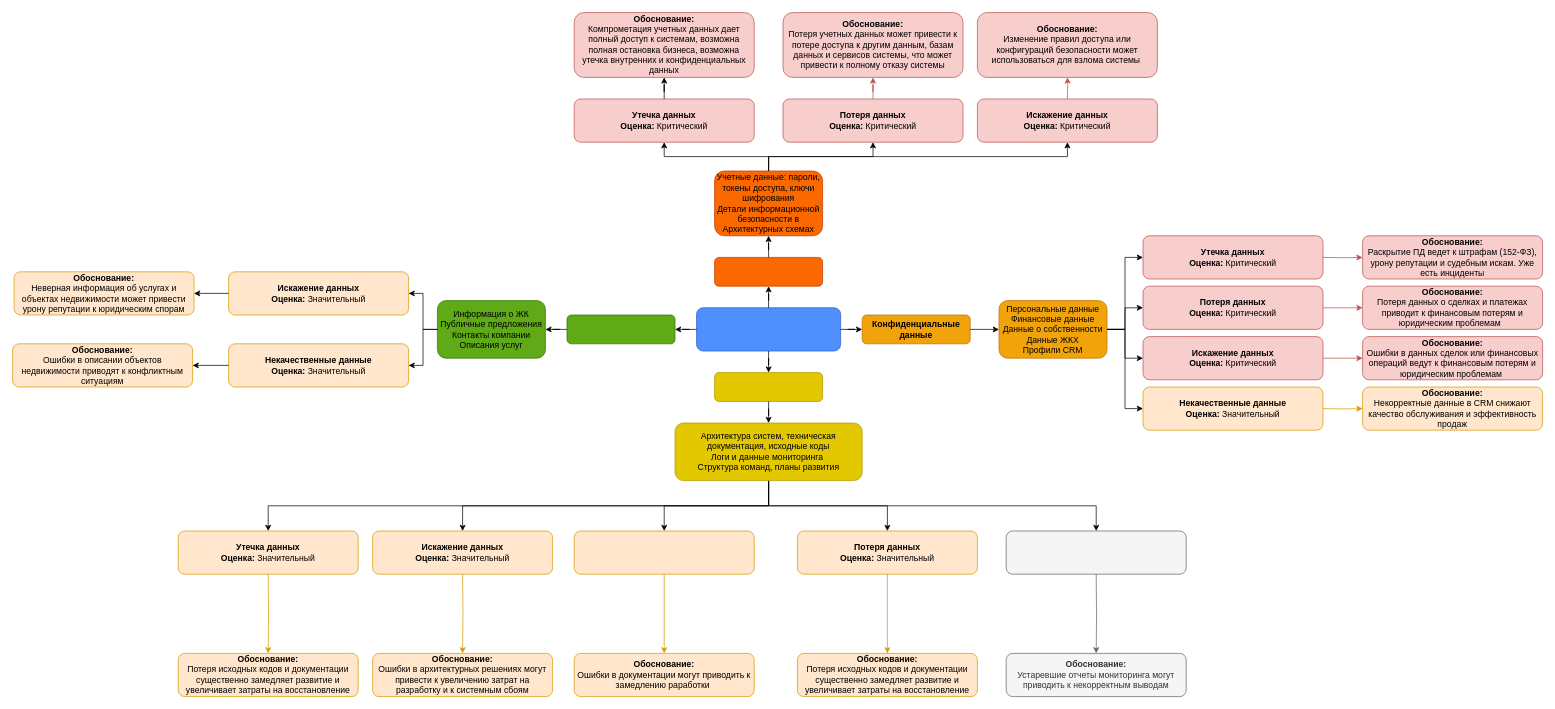
Some shapes in this 1555 by 709 pixel diagram are drawn without their labels. Here are the shapes that lost their labels. From the top down, the centre of each, then its label:
point (768, 271): Секретные данные
point (620, 329): Публичные данные
point (768, 329): Безопасность данных PropDevelopment
point (768, 386): Внутренние данные
point (663, 552): Некачественные данных Оценка: Значительный
point (1095, 552): Обесценивание данных Оценка: Незначительный
